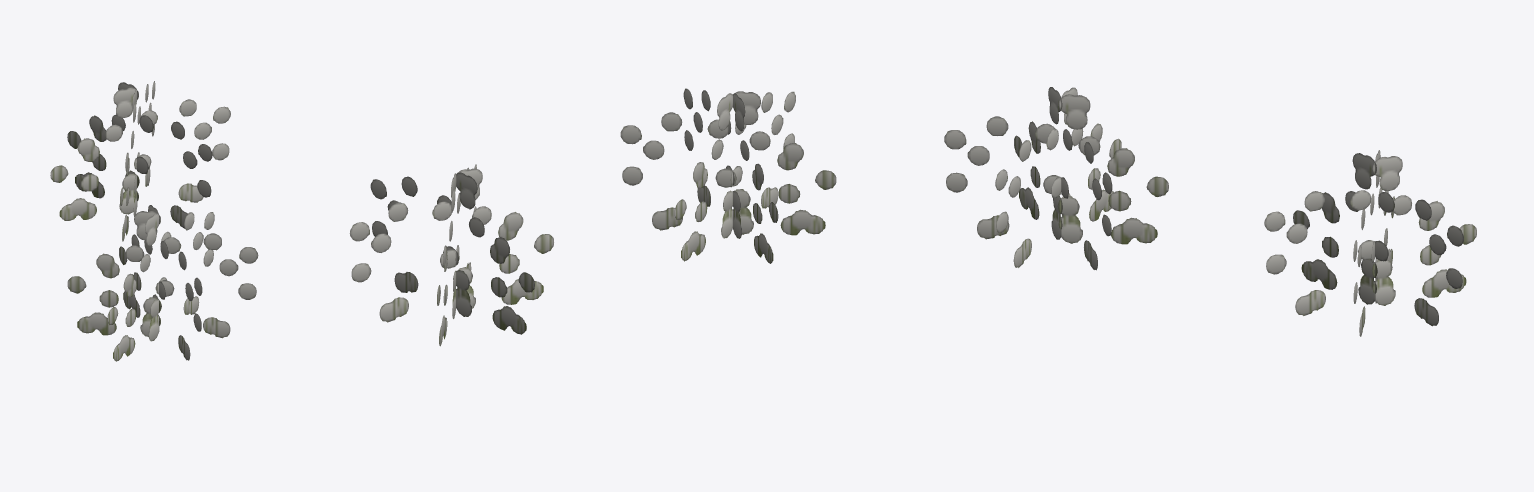
Rendered from tpl_bog_sedge.glb.
3 renders of one model, left to right at view 1: azimuth 30°, elevation 25°; view 2: azimuth 150°, elevation 25°; view 3: azimuth 270°, elevation 25°, orthographic. The views are drawn at different scales.
Parts seen in each view (by area): view 1: tpl_bog_sedge; view 2: tpl_bog_sedge; view 3: tpl_bog_sedge.
Part boxes in pixels (x1,y1,x2,y2): tpl_bog_sedge: (50, 81, 258, 361); tpl_bog_sedge: (349, 88, 836, 346); tpl_bog_sedge: (944, 87, 1476, 336).
Size of the model in its own units: 1 by 0.7 by 1.4.
1 material, 1 textured.
